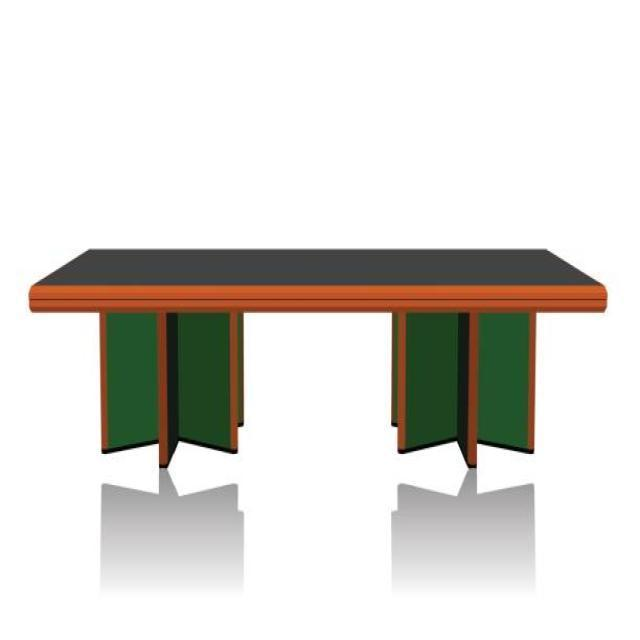table: (28, 246, 608, 470)
